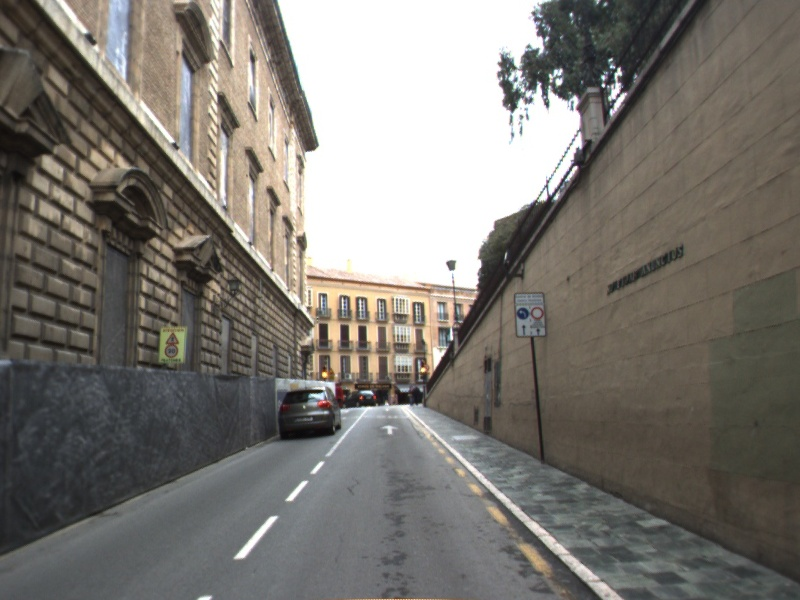STRAIGHT: (378, 423, 401, 436)
